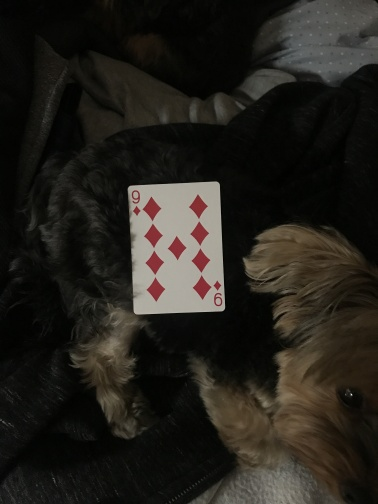nine: (126, 181, 226, 316)
